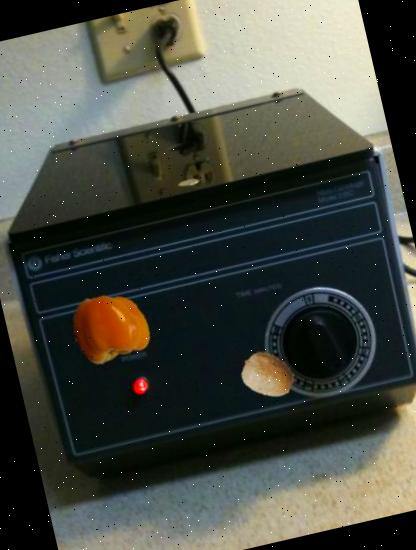Kiwi: (236, 342, 300, 406)
Pepper: (62, 282, 156, 376)
